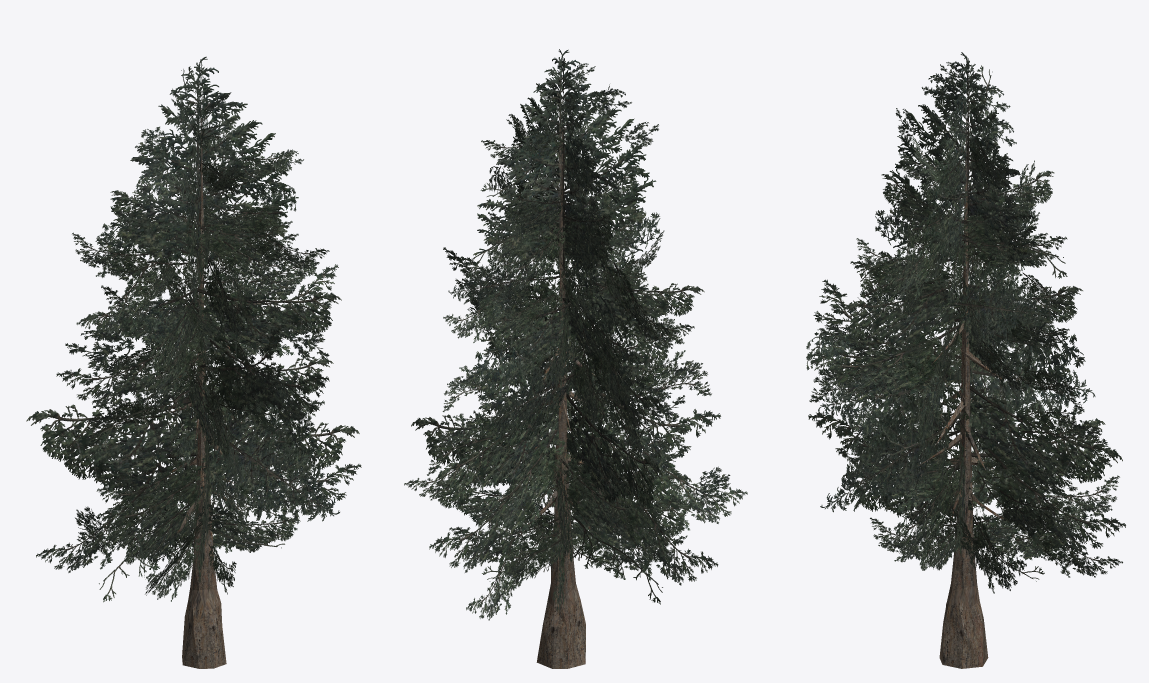
File: smrk_p0.glb
3 views of the same model, side by side, from view 1: azimuth 30°, elevation 25°; view 2: azimuth 150°, elevation 25°; view 3: azimuth 270°, elevation 25° (orthographic).
Parts seen in each view (by area): view 1: Tree_Branches_01.001_Tree_Branches_01_0, Tree_Trunk_01_Tree_Trunk_01_0; view 2: Tree_Branches_01.001_Tree_Branches_01_0, Tree_Trunk_01_Tree_Trunk_01_0; view 3: Tree_Branches_01.001_Tree_Branches_01_0, Tree_Trunk_01_Tree_Trunk_01_0.
Boxes of the visible parts, bbox=[...] form: Tree_Branches_01.001_Tree_Branches_01_0: bbox=[26, 56, 361, 602]; Tree_Trunk_01_Tree_Trunk_01_0: bbox=[169, 105, 253, 668]; Tree_Branches_01.001_Tree_Branches_01_0: bbox=[404, 49, 747, 620]; Tree_Trunk_01_Tree_Trunk_01_0: bbox=[527, 99, 602, 668]; Tree_Branches_01.001_Tree_Branches_01_0: bbox=[806, 52, 1125, 593]; Tree_Trunk_01_Tree_Trunk_01_0: bbox=[917, 104, 1006, 668].
Size of the model in its own units: 3.96 by 6.93 by 3.66.
2 materials, 2 textured.
